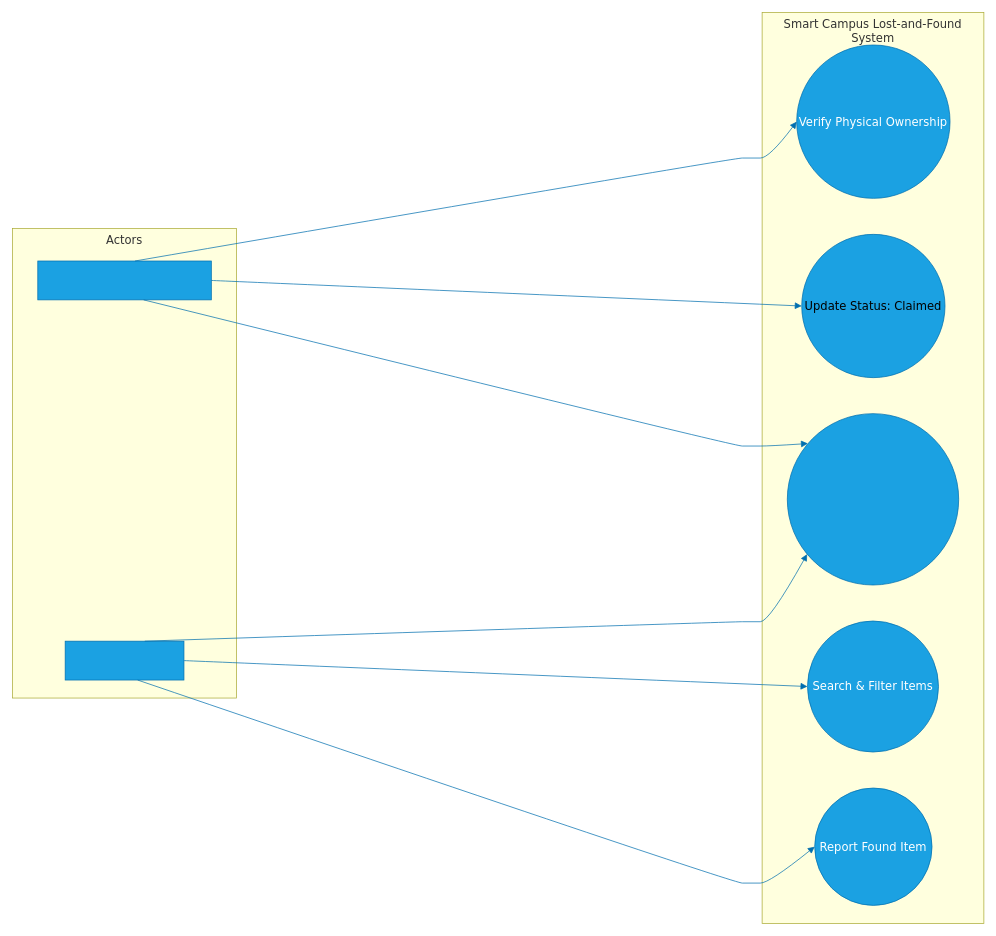
This 996x936 diagram has some shape labels left out. Here are the shapes that lost their labels. From the top down, the centre of each, then its label:
At point (124, 280): "Campus Security / Admin".
At point (873, 499): "View Item Details & Location".
At point (124, 660): "Student / User".
